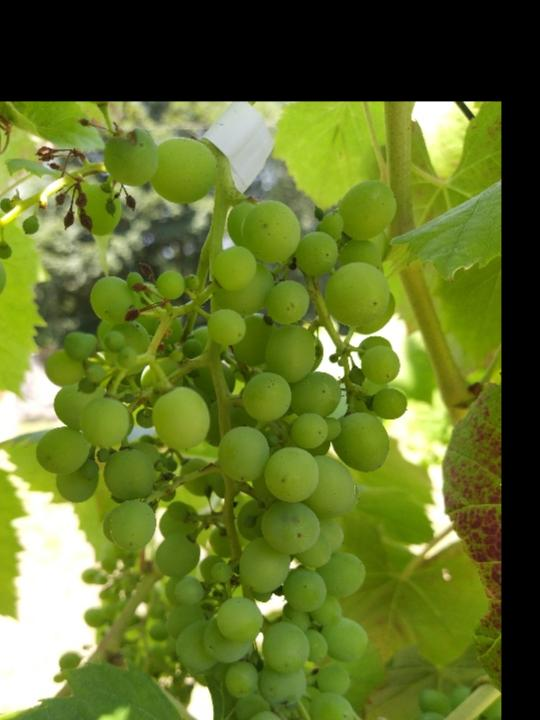grape: (30, 177, 404, 720)
